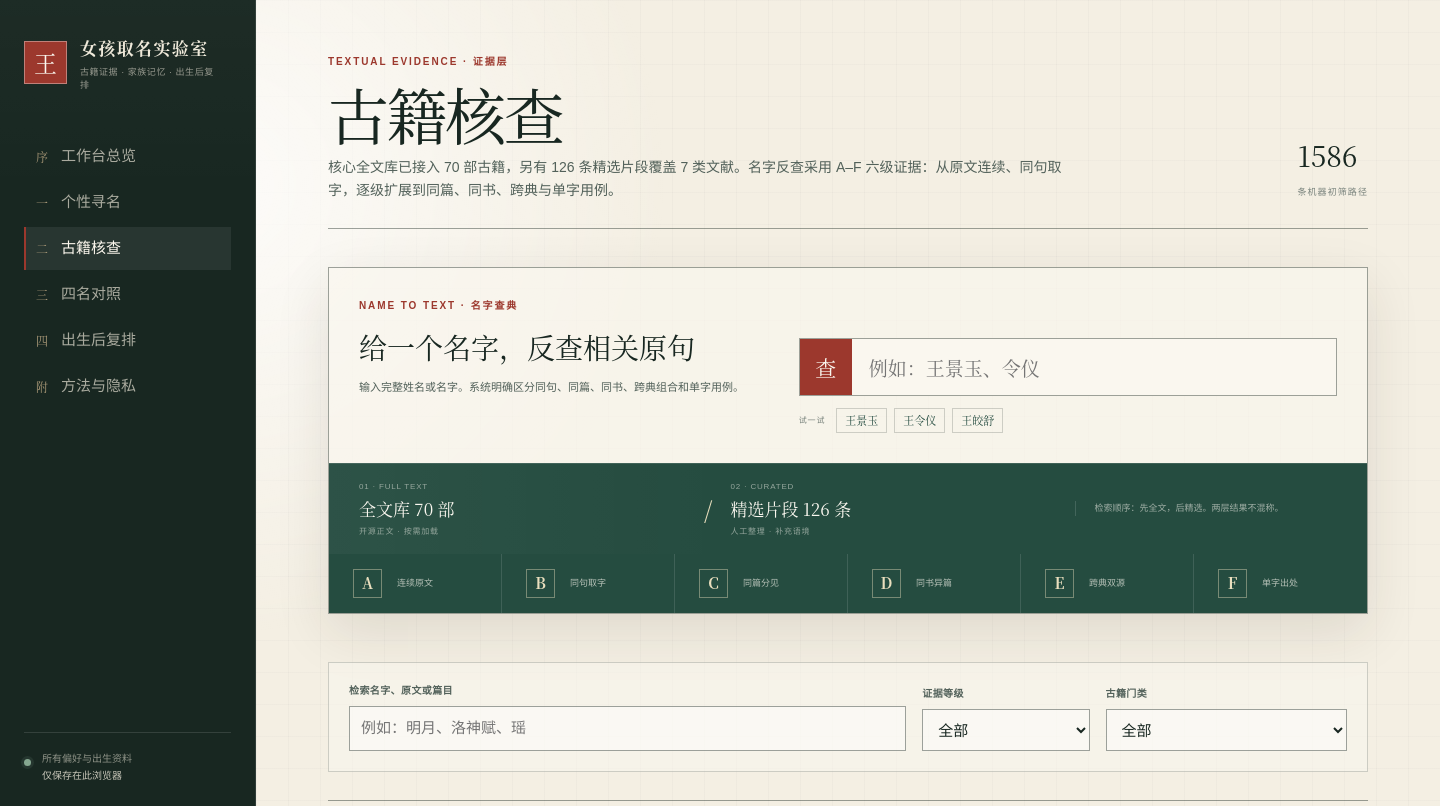
Scenario: 取名实验室应用 › 全文库失败时明确报错，但继续展示精选片段
Step 1. Type "王令仪" into the search field named "输入姓名查找古籍原句" → (1094, 367), box [852, 339, 1336, 395]
(page scrolled)
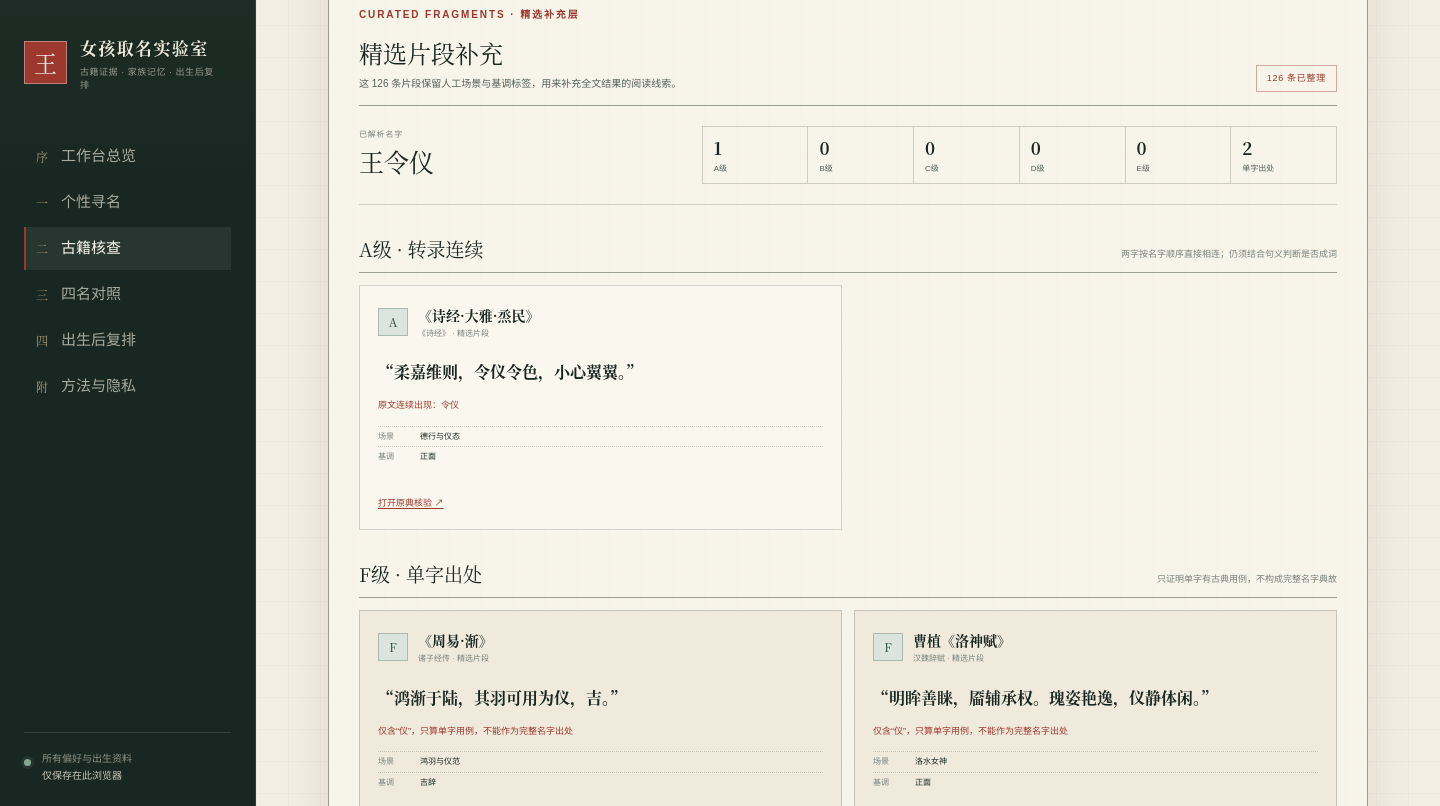
Now the heading "精选片段补充" is shown, box [359, 35, 503, 70]
Now the text "原文连续出现：令仪" is shown, box [378, 400, 459, 410]
